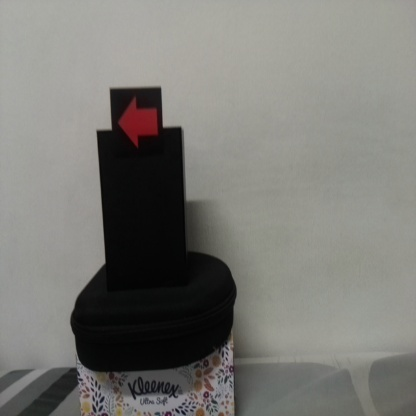id_4: (110, 89, 164, 160)
